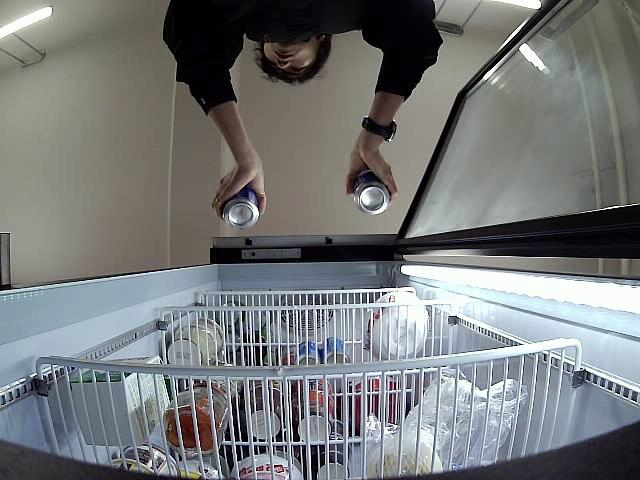00_hand: (211, 157, 267, 218), (345, 141, 399, 199)
13_pocariSweat: (354, 172, 390, 216), (223, 185, 259, 229)
